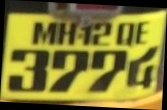character: (8, 48, 49, 92), (48, 49, 88, 93), (88, 49, 127, 94), (127, 44, 157, 88), (31, 21, 56, 44), (92, 21, 112, 46), (57, 22, 76, 45), (135, 21, 148, 44), (80, 24, 91, 45)
